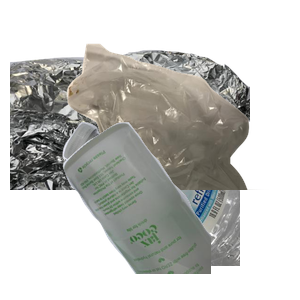glass: (60, 120, 300, 300)
metal: (10, 47, 250, 227)
plastic: (60, 120, 300, 300)
trash: (65, 41, 300, 221)
